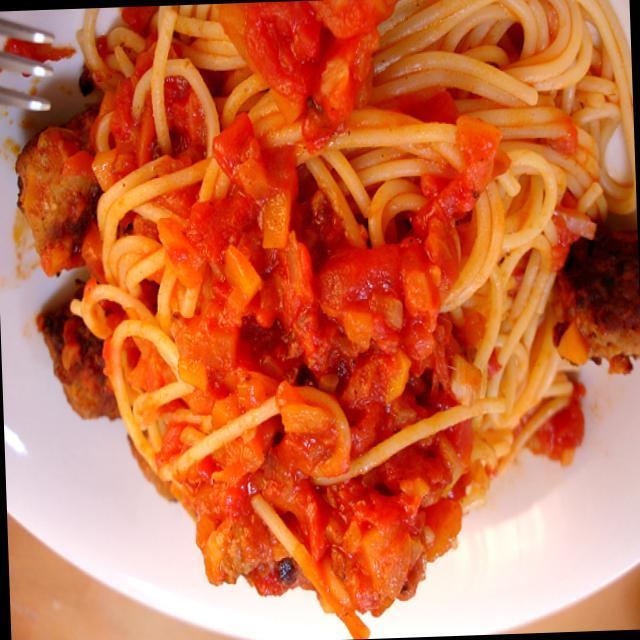Pasta: (72, 0, 607, 593)
